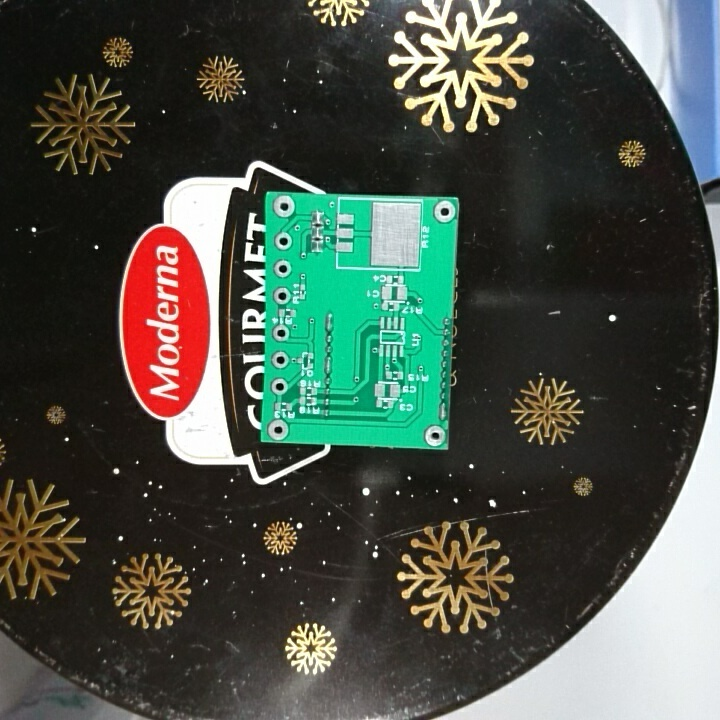F: (271, 192, 297, 220), (266, 415, 292, 442), (422, 422, 447, 449), (432, 198, 456, 226), (272, 283, 294, 308), (271, 257, 294, 280), (269, 349, 291, 372), (271, 321, 291, 344), (272, 231, 293, 252), (270, 375, 289, 396)
P: (324, 311, 337, 334), (322, 354, 334, 377), (437, 400, 448, 422)
